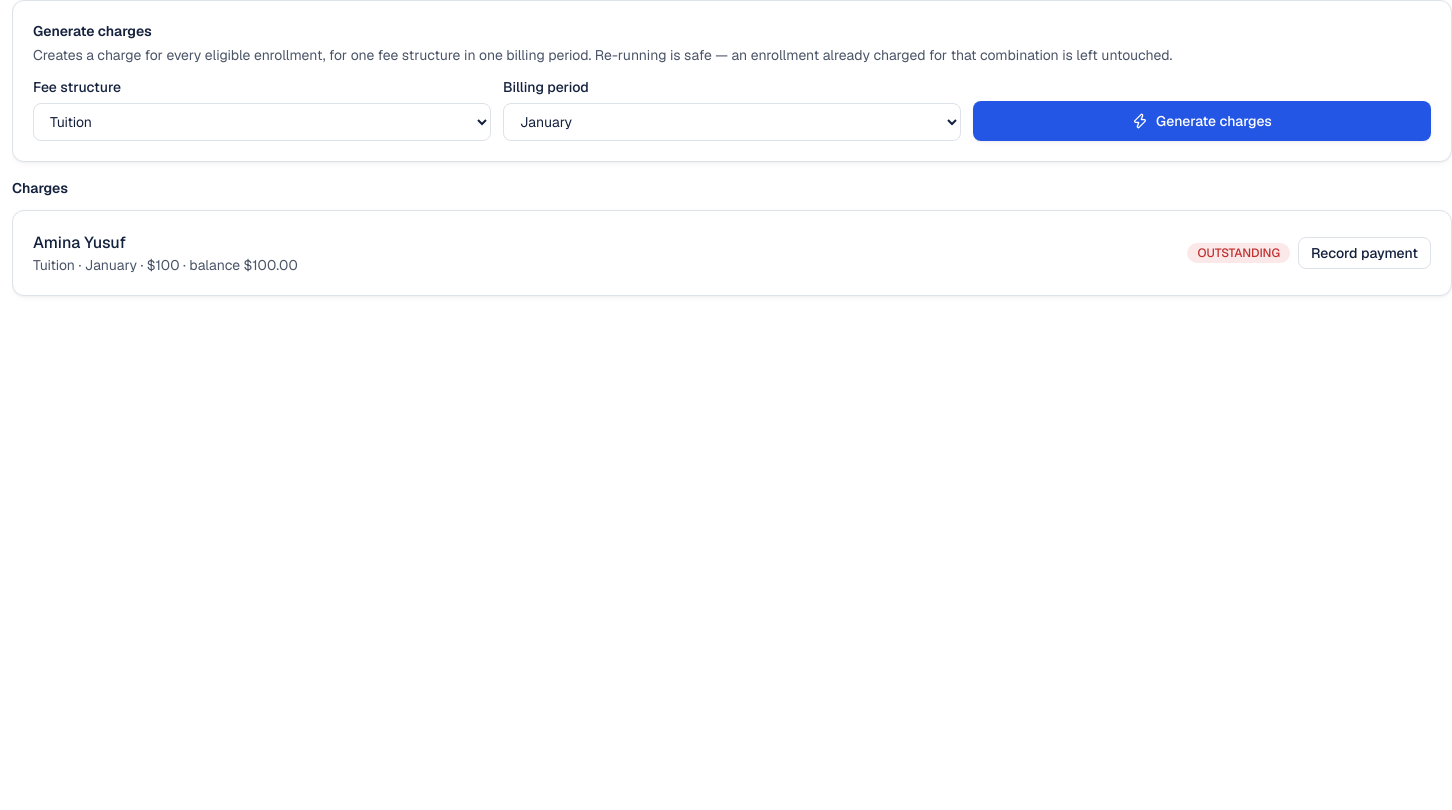
Test: ChargesTab — record a charge payment (mutation) › marks the charge PARTIALLY_PAID (not PAID) when the payment doesn't cover the full remaining balance
Click the button "Record payment" at (1364, 253), box x1=1298 y1=237 x2=1431 y2=269
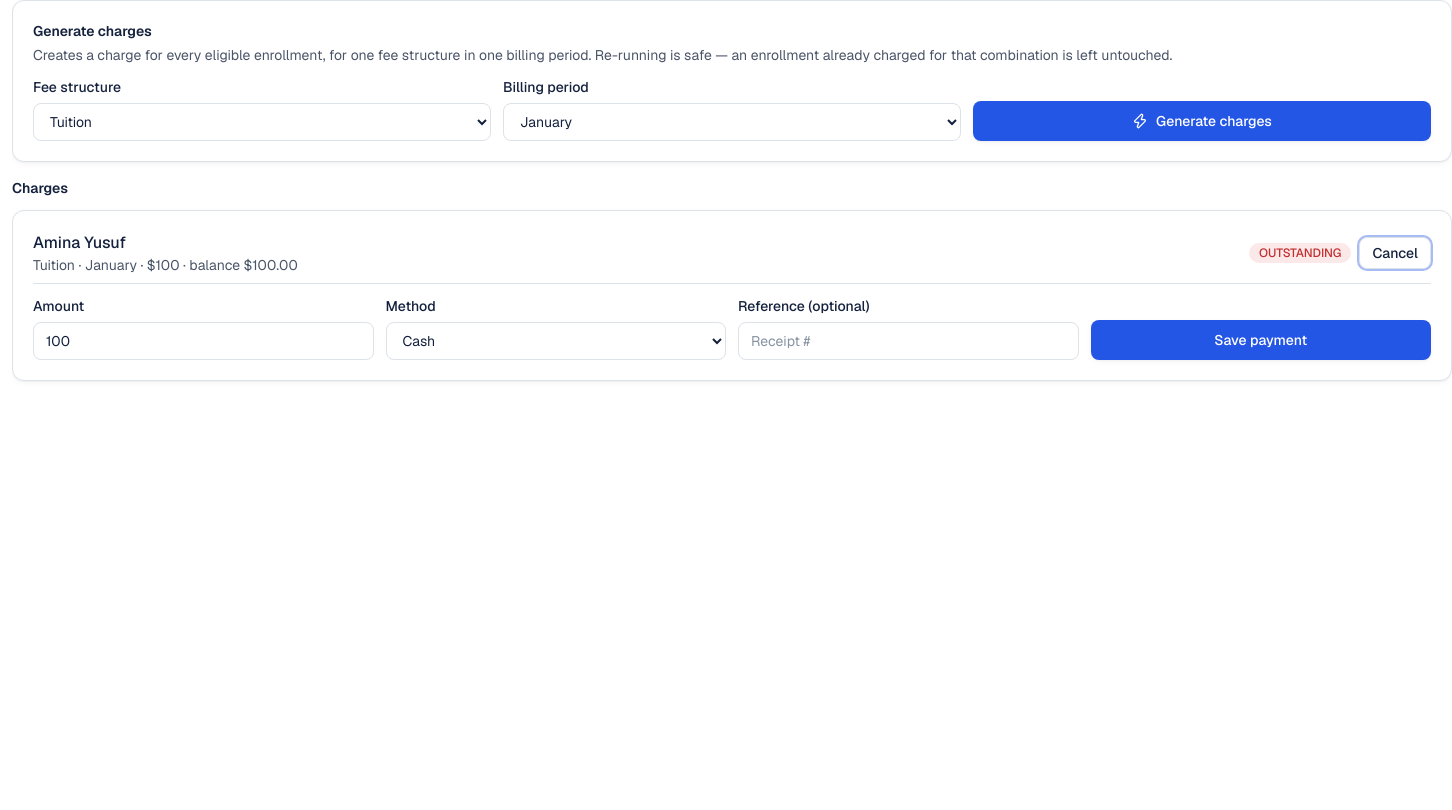
Replace the text in the number field with "30" at (203, 341), box x1=33 y1=322 x2=374 y2=360
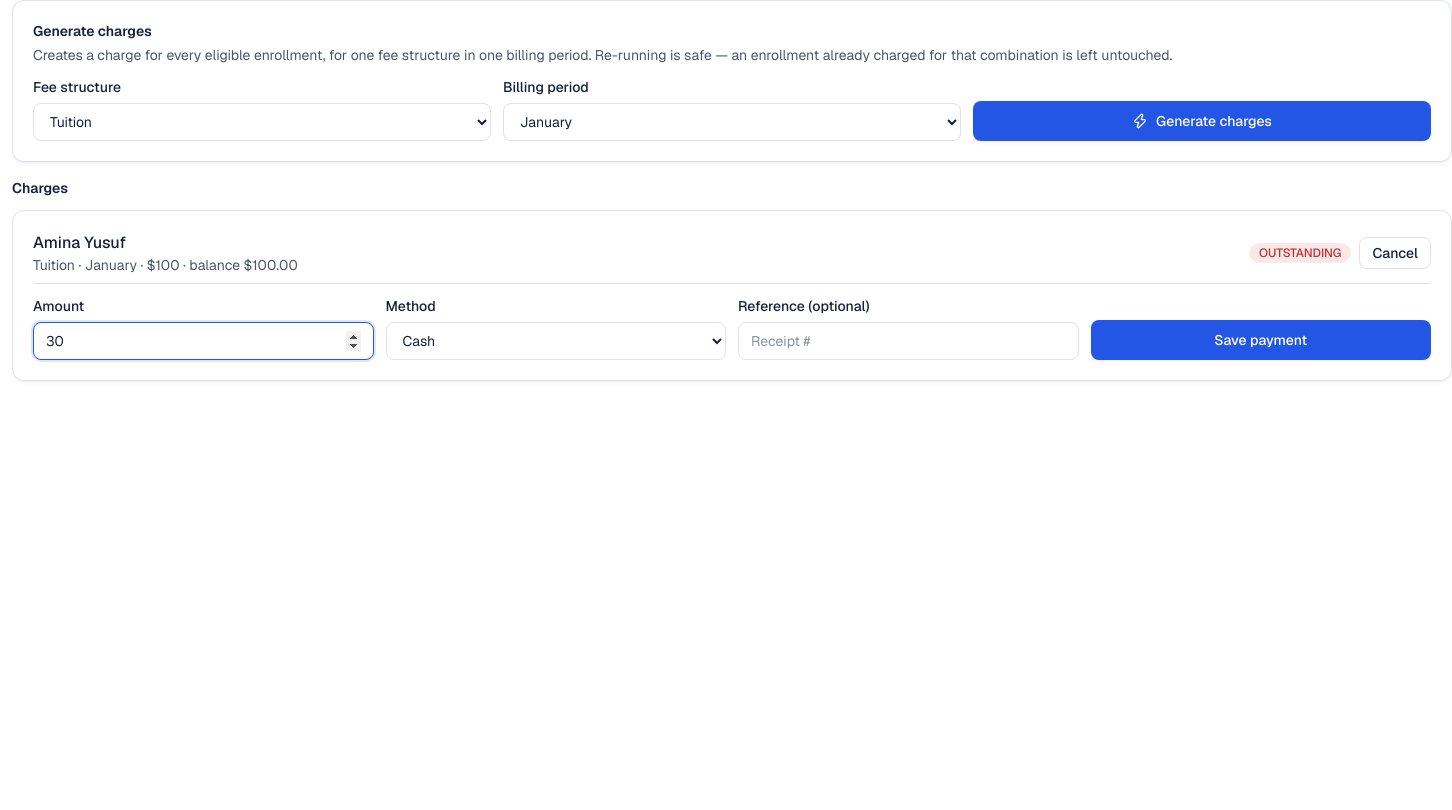
Click the button "Save payment" at (1261, 340), box x1=1090 y1=320 x2=1431 y2=360
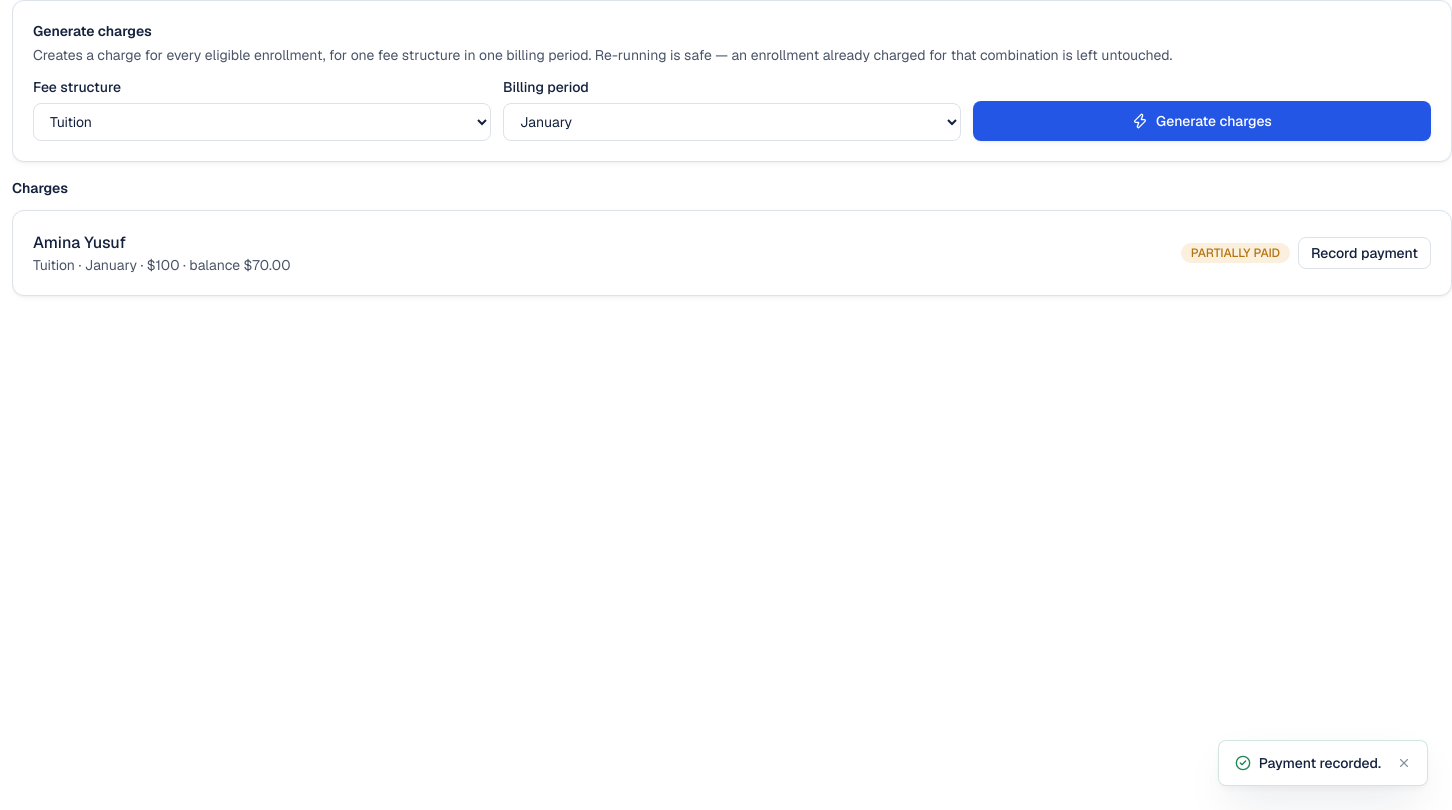
Now the text "PARTIALLY PAID" is shown, box x1=1181 y1=243 x2=1290 y2=263
